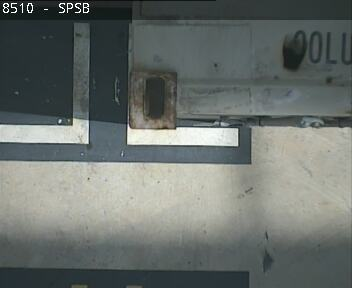groundmarker_1: (1, 24, 241, 145)
